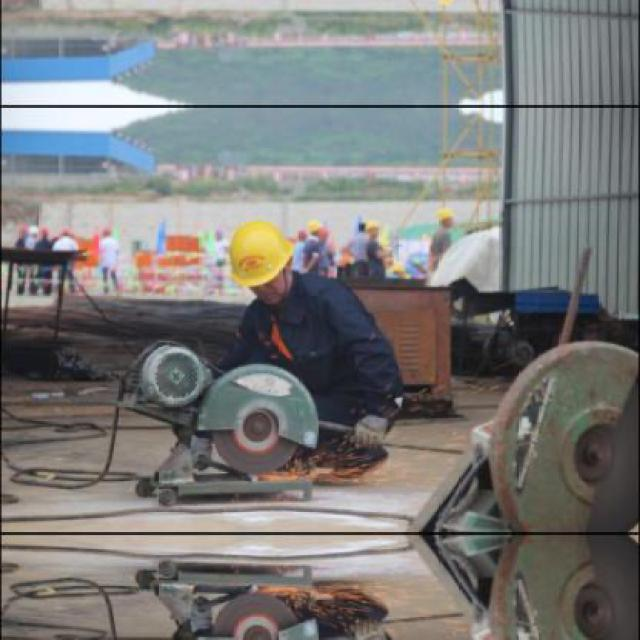con casco: (196, 211, 343, 351)
